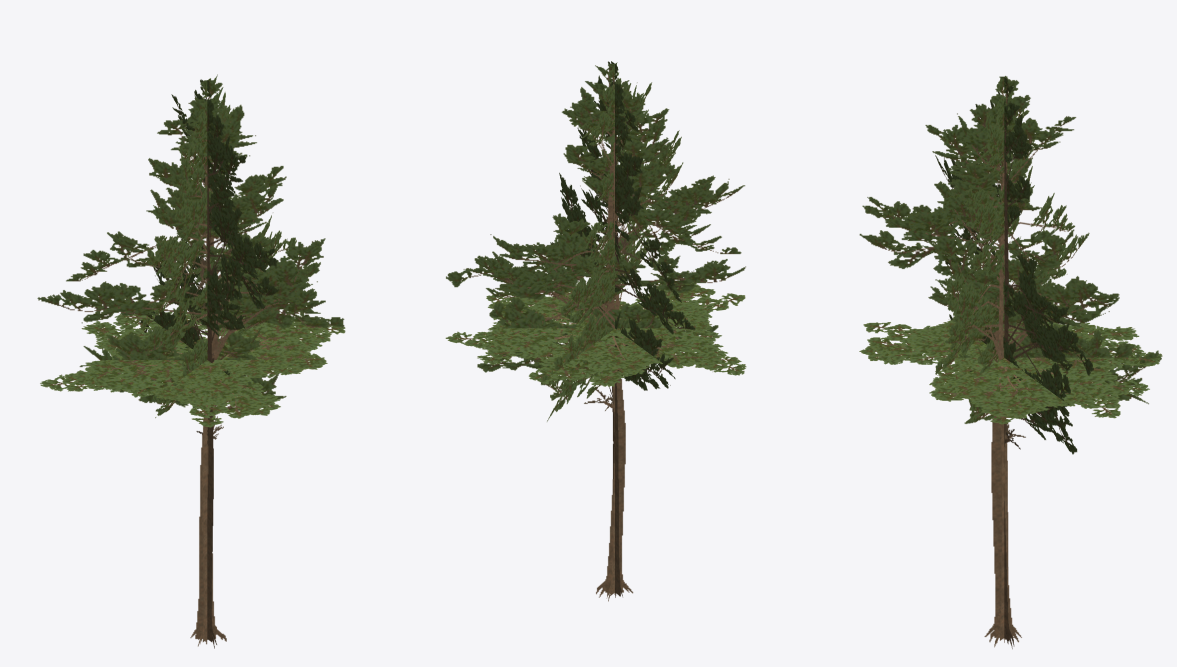
Rendered from tree.gltf.
3 views of the same model, side by side, from view 1: azimuth 30°, elevation 25°; view 2: azimuth 150°, elevation 25°; view 3: azimuth 270°, elevation 25° (orthographic). The views are drawn at different scales.
Parts seen in each view (by area): view 1: Pine_large_1_Billboard_LOD3_Pine_large_1_Billboard_Mat_0; view 2: Pine_large_1_Billboard_LOD3_Pine_large_1_Billboard_Mat_0; view 3: Pine_large_1_Billboard_LOD3_Pine_large_1_Billboard_Mat_0.
Boxes of the visible parts, <box> form: Pine_large_1_Billboard_LOD3_Pine_large_1_Billboard_Mat_0: <box>37,74,345,648</box>; Pine_large_1_Billboard_LOD3_Pine_large_1_Billboard_Mat_0: <box>445,61,746,601</box>; Pine_large_1_Billboard_LOD3_Pine_large_1_Billboard_Mat_0: <box>859,76,1162,649</box>.
Size of the model in its own units: 16.85 by 31.5 by 15.4.
1 material, 1 textured.
